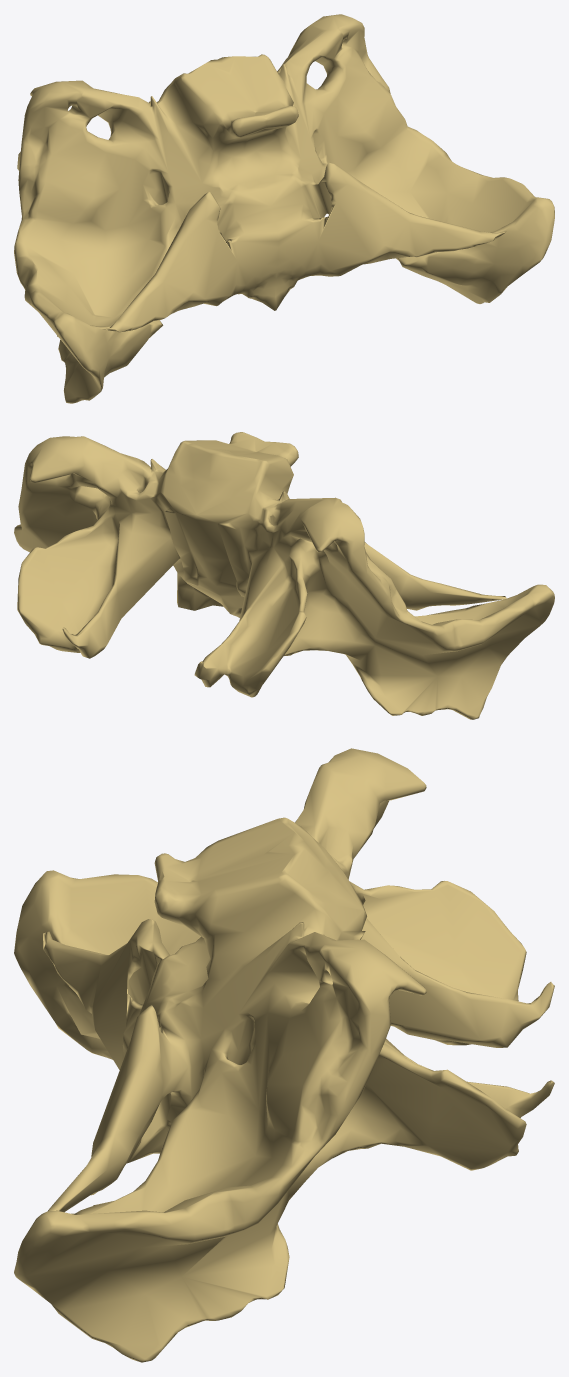
The picture shows the model from 3 angles, top to bottom: view 1: azimuth 30°, elevation 25°; view 2: azimuth 150°, elevation 25°; view 3: azimuth 270°, elevation 25°; orthographic projection. The views are drawn at different scales.
Visible parts, largest first — view 1: 蝶骨; view 2: 蝶骨; view 3: 蝶骨.
Boxes of the visible parts, x1,y1,x2,y2 form: 蝶骨: (14,14,554,403); 蝶骨: (14,432,554,719); 蝶骨: (14,748,554,1362).
Bounding box in the file's own units: 0.1604 × 0.0784 × 0.103.
